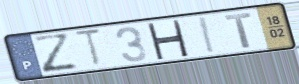3: (115, 26, 148, 63)
H: (144, 19, 191, 60)
I: (198, 15, 218, 56)
T: (72, 27, 105, 70), (223, 11, 254, 50)
Z: (30, 32, 82, 75)
